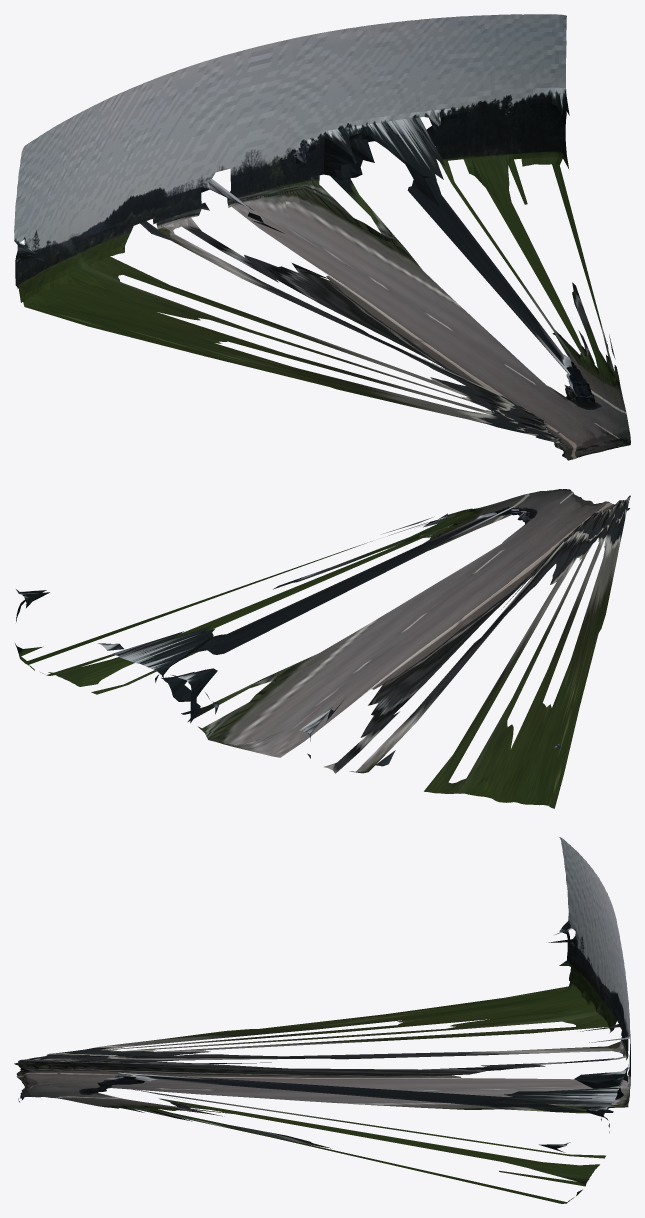
The picture shows the model from 3 angles, top to bottom: view 1: azimuth 30°, elevation 25°; view 2: azimuth 150°, elevation 25°; view 3: azimuth 270°, elevation 25°; orthographic projection. The views are drawn at different scales.
Visible parts, largest first — view 1: defaultobject; view 2: defaultobject; view 3: defaultobject.
Boxes of the visible parts, x1,y1,x2,y2 form: defaultobject: (14, 14, 630, 460); defaultobject: (15, 489, 630, 808); defaultobject: (14, 837, 630, 1203).
Size of the model in its own units: 41.09 by 12.54 by 44.69.
Materials: 1 (1 with a texture image).
